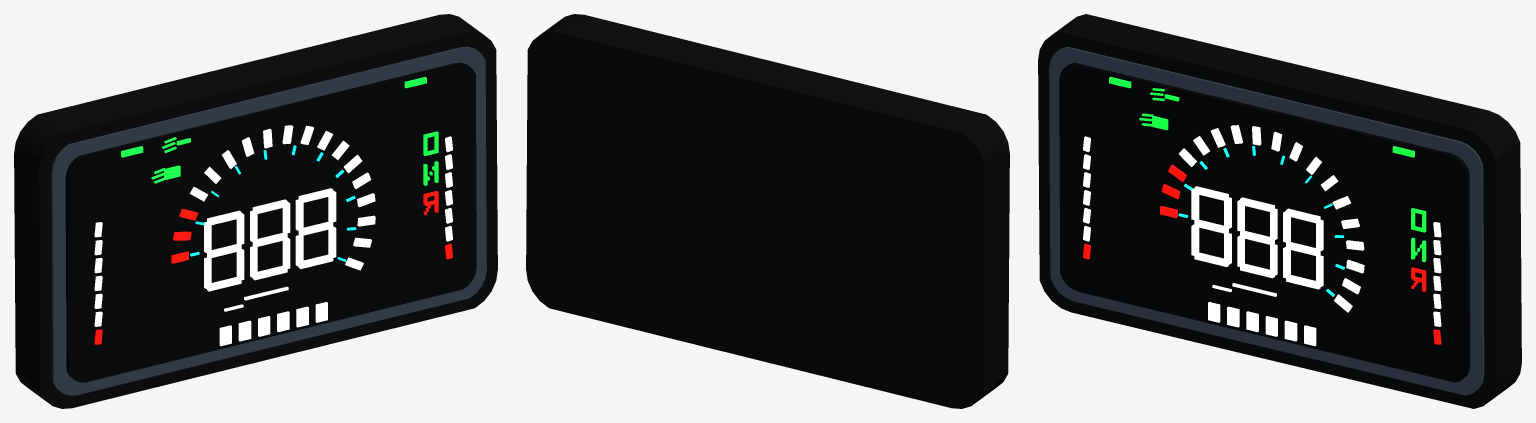
The model's file is GLS580_DigitalCluster_V9_DNR_LEFT_STACK.fbx.
3 renders of one model, left to right at view 1: azimuth 30°, elevation 25°; view 2: azimuth 150°, elevation 25°; view 3: azimuth 330°, elevation 25°, orthographic.
Parts seen in each view (by area): view 1: Screen, Housing, Bezel, StaticWhite, StaticRed, StaticGreen; view 2: Housing; view 3: Screen, Housing, Bezel, StaticWhite, StaticRed, StaticGreen.
Boxes of the visible parts, bbox=[...] form: Screen: bbox=[65, 62, 476, 382]; Housing: bbox=[14, 14, 497, 408]; Bezel: bbox=[51, 46, 486, 395]; StaticWhite: bbox=[94, 125, 452, 346]; StaticRed: bbox=[94, 208, 452, 344]; StaticGreen: bbox=[121, 76, 426, 157]; Housing: bbox=[526, 14, 1009, 408]; Screen: bbox=[1059, 62, 1470, 382]; Housing: bbox=[1038, 14, 1521, 408]; Bezel: bbox=[1049, 46, 1484, 395]; StaticWhite: bbox=[1083, 125, 1441, 346]; StaticRed: bbox=[1083, 164, 1441, 344]; StaticGreen: bbox=[1109, 76, 1414, 157].
Size of the model in its own units: 55 by 32 by 6.62.
